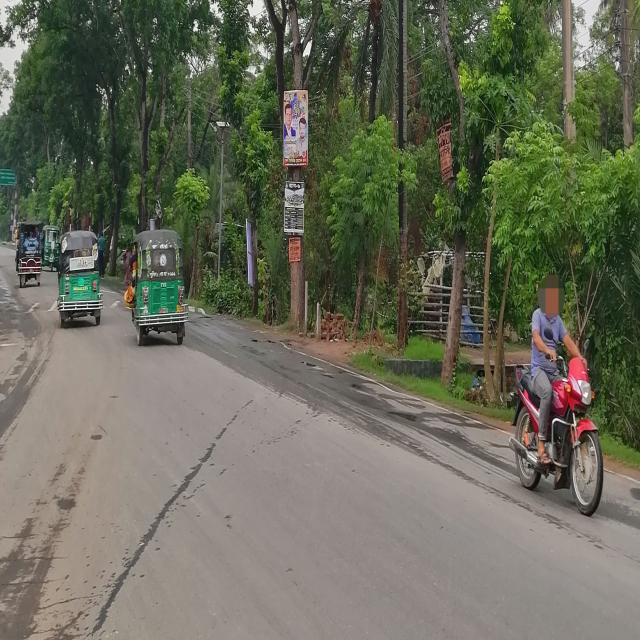CNG: (132, 226, 188, 352), (57, 225, 104, 333)
Easybike: (14, 212, 48, 289)
Motorbike: (498, 339, 613, 521)
